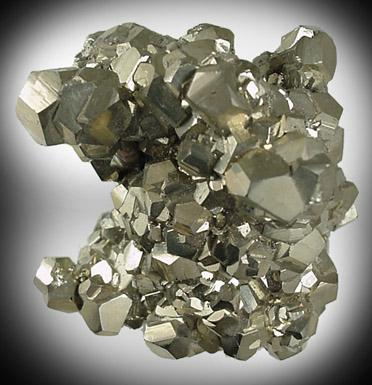pyrite: (15, 22, 359, 363)
